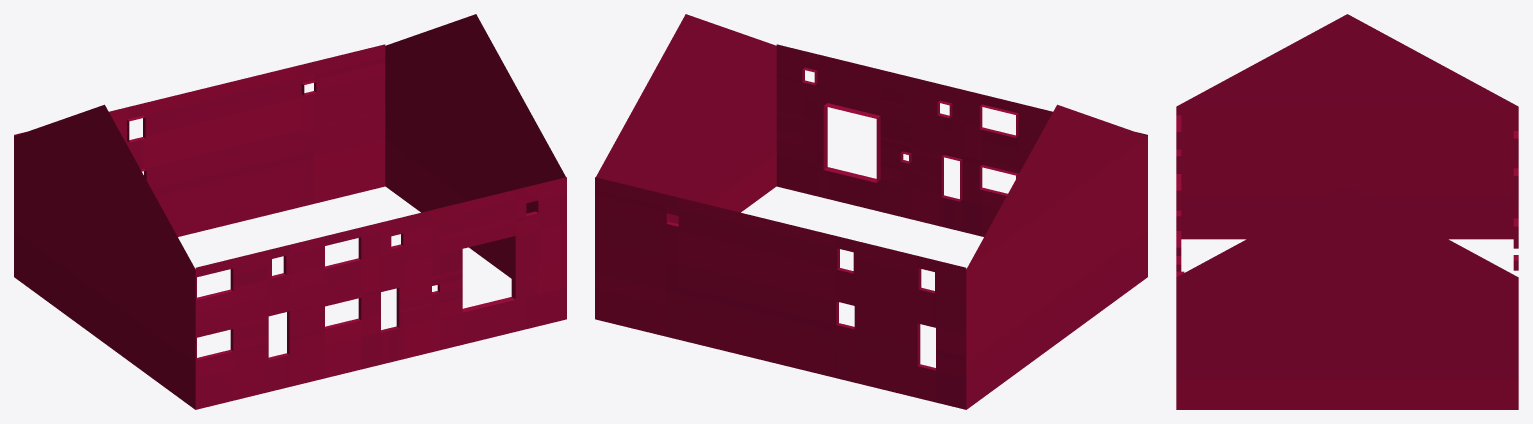
Rendered from SM_Bld_045_Masonry.glb.
3 renders of one model, left to right at view 1: azimuth 30°, elevation 25°; view 2: azimuth 150°, elevation 25°; view 3: azimuth 270°, elevation 25°, orthographic. The views are drawn at different scales.
Visible parts, largest first — view 1: SM_Bld_045_Masonry; view 2: SM_Bld_045_Masonry; view 3: SM_Bld_045_Masonry.
Boxes of the visible parts, x1=… form: SM_Bld_045_Masonry: x1=14, y1=14, x2=566, y2=409; SM_Bld_045_Masonry: x1=595, y1=14, x2=1147, y2=409; SM_Bld_045_Masonry: x1=1176, y1=14, x2=1518, y2=409.
Size of the model in its own units: 18.23 by 11.2 by 15.43.
